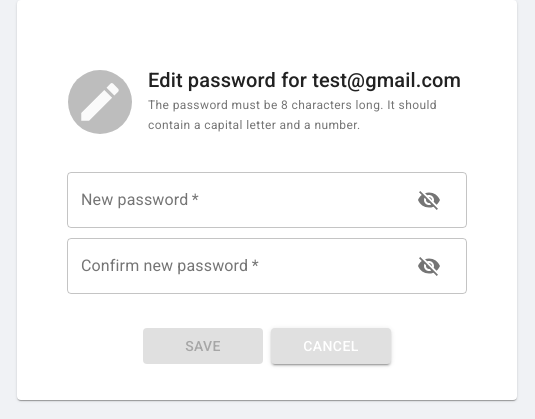
Scenario: The ChangePasswordForm component › should display error if password to short
The image size is (535, 419).
Step 1. Type "wrong" into the password field with test id "newPassword" → (232, 200), box x1=67 y1=172 x2=397 y2=228
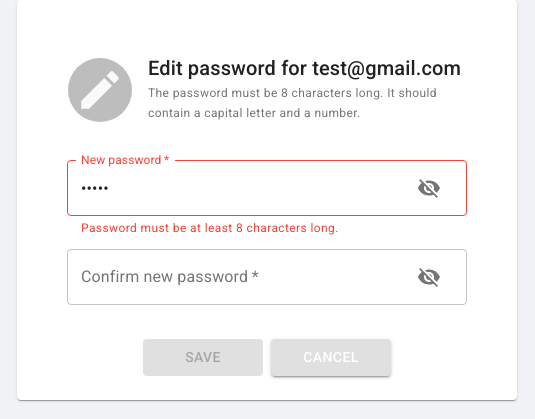
Now the text "Password must be at least 8 characters long." is shown, box x1=81 y1=221 x2=339 y2=235
